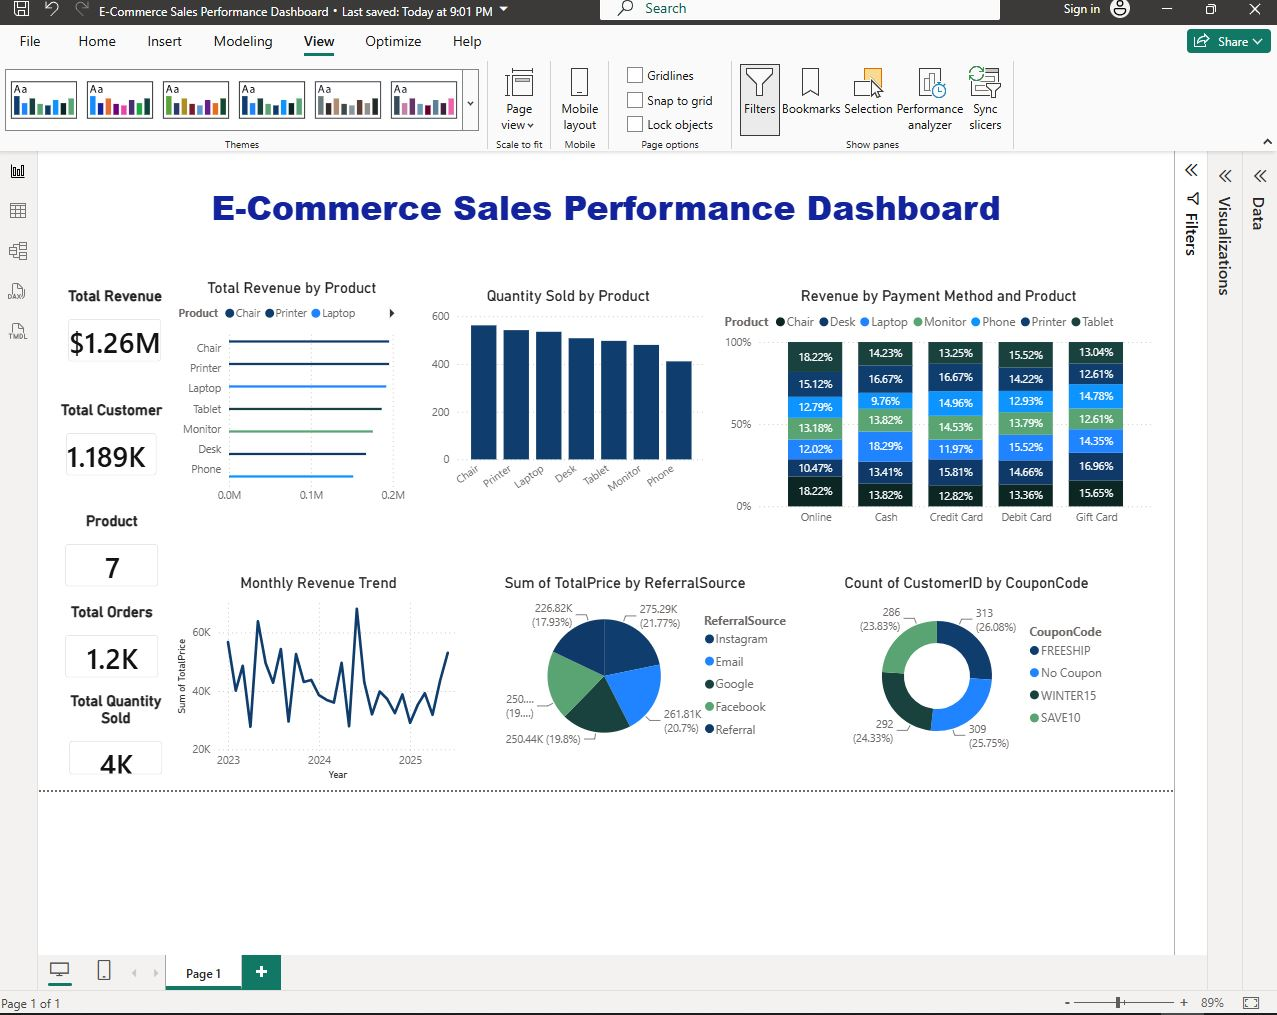

What the dashboard file says about the page in this screenshot:
{"tool":"powerbi","page":{"name":"Page 1","canvas":[1280,720],"ordinal":0},"visuals":[{"type":"cardVisual","title":"Total Revenue","fields":{"Data":["Sum(Sheet1.TotalPrice)"]},"box":[16.6,152.9,140,101.3],"z":0},{"type":"textbox","box":[12,280,150,150],"z":1000},{"type":"textbox","box":[0,31.3,1280,121.6],"z":2000},{"type":"cardVisual","title":"Total Customer","fields":{"Data":["Count(Sheet1.CustomerID)"]},"box":[15.2,282.1,136.5,101.6],"z":3000},{"type":"cardVisual","title":"Product","fields":{"Data":["Count(Sheet1.Product)"]},"box":[13.6,406.4,139.5,101.6],"z":4000},{"type":"cardVisual","title":"Total Orders","fields":{"Data":["Count(Sheet1.OrderID)"]},"box":[13.6,509.6,139.5,101.6],"z":5000},{"type":"clusteredBarChart","title":"Total Revenue by Product","fields":{"Y":["Sum(Sheet1.TotalPrice)"],"Category":["Sheet1.Product"],"Series":["Sheet1.Product"]},"box":[153.2,144.1,265.4,262.4],"z":6000},{"type":"cardVisual","title":"Total Quantity Sold","fields":{"Data":["Sum(Sheet1.Quantity)"]},"box":[18.2,609.7,139.5,110.7],"z":7000},{"type":"clusteredColumnChart","title":"Quantity Sold by Product","fields":{"Y":["Sum(Sheet1.Quantity)"],"Category":["Sheet1.Product"]},"box":[438.3,153.2,318.5,253.3],"z":8000},{"type":"lineChart","title":"Monthly Revenue Trend","fields":{"Category":["Sheet1.Date.Variation.Date Hierarchy.Year","Sheet1.Date.Variation.Date Hierarchy.Month"],"Y":["Sum(Sheet1.TotalPrice)"]},"box":[151.7,476.2,327.6,236.6],"z":9000},{"type":"hundredPercentStackedColumnChart","title":"Revenue by Payment Method and Product","fields":{"Category":["Sheet1.PaymentMethod"],"Y":["CountNonNull(Sheet1.CustomerID)"],"Series":["Sheet1.Product"]},"box":[768.9,153.2,492.9,277.5],"z":10000},{"type":"pieChart","fields":{"Category":["Sheet1.ReferralSource"],"Y":["Sum(Sheet1.TotalPrice)"]},"box":[520.2,476.2,342.7,210.8],"z":12001},{"type":"donutChart","fields":{"Y":["CountNonNull(Sheet1.CustomerID)"],"Category":["Sheet1.CouponCode"]},"box":[903.9,476.2,318.5,210.8],"z":12002}]}

Visuals, with their boxes on the page's 1280x720 design canvas (x1, y1, x2, y2). These are canvas units, not pixel positions in the 1277x1015 screenshot, which may show the page scaled, cropped or inside an application window:
"Total Revenue" cardVisual: BBox(17, 153, 157, 254)
textbox: BBox(12, 280, 162, 430)
textbox: BBox(0, 31, 1280, 153)
"Total Customer" cardVisual: BBox(15, 282, 152, 384)
"Product" cardVisual: BBox(14, 406, 153, 508)
"Total Orders" cardVisual: BBox(14, 510, 153, 611)
"Total Revenue by Product" clusteredBarChart: BBox(153, 144, 419, 406)
"Total Quantity Sold" cardVisual: BBox(18, 610, 158, 720)
"Quantity Sold by Product" clusteredColumnChart: BBox(438, 153, 757, 406)
"Monthly Revenue Trend" lineChart: BBox(152, 476, 479, 713)
"Revenue by Payment Method and Product" hundredPercentStackedColumnChart: BBox(769, 153, 1262, 431)
pieChart - Sheet1.ReferralSource x Sum(Sheet1.TotalPrice): BBox(520, 476, 863, 687)
donutChart - CountNonNull(Sheet1.CustomerID) x Sheet1.CouponCode: BBox(904, 476, 1222, 687)
